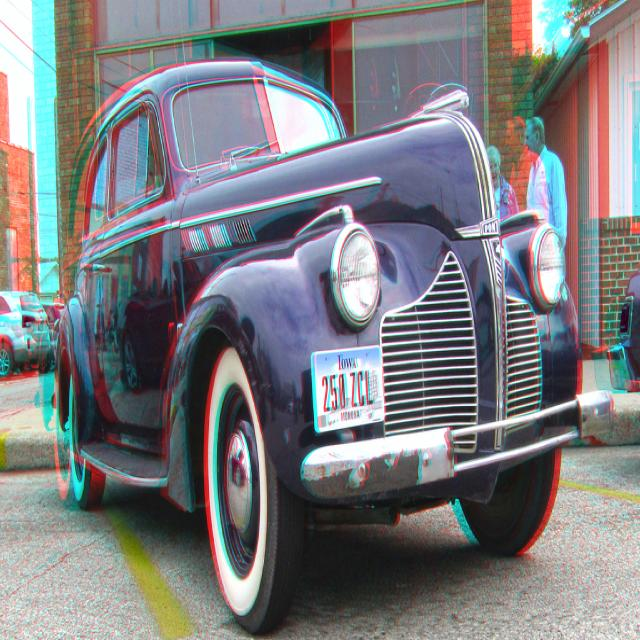car: (49, 0, 614, 637)
